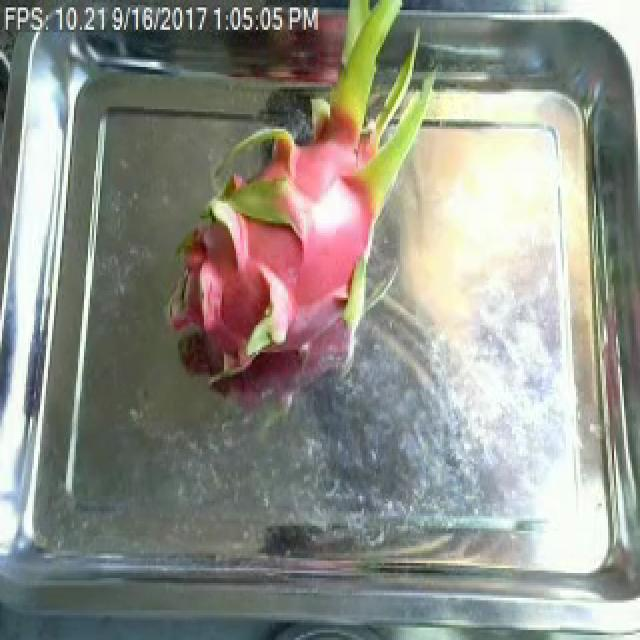fruit: (146, 10, 452, 399)
